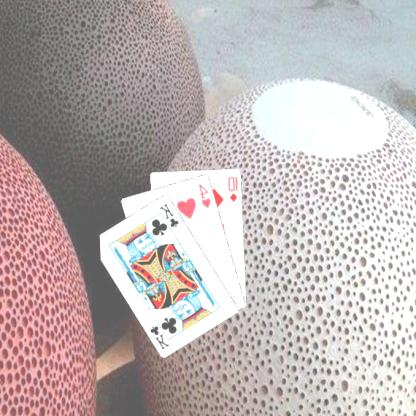10D: (228, 173, 240, 203)
4H: (198, 181, 214, 209)
KC: (158, 200, 182, 234), (149, 317, 173, 351)
